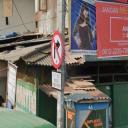NoVirarDireita: (50, 32, 62, 68)
